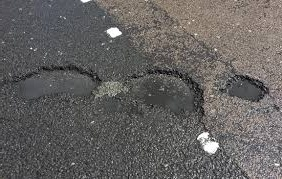pothole: (3, 57, 110, 105), (119, 69, 200, 112), (214, 74, 271, 100)
